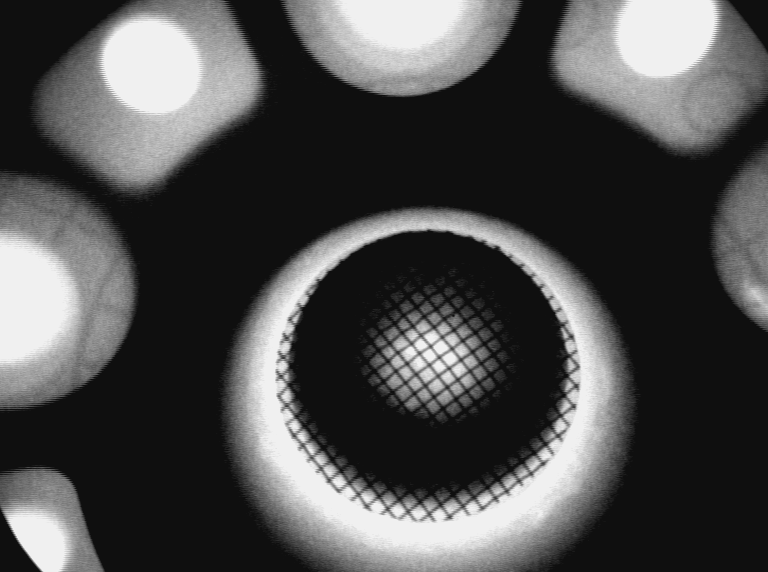defect: (733, 267, 767, 327)
